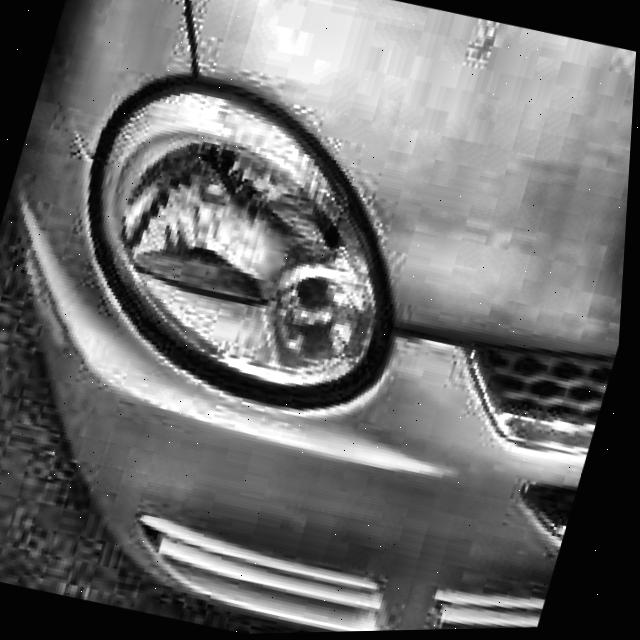head_lamp: (65, 65, 448, 421)
